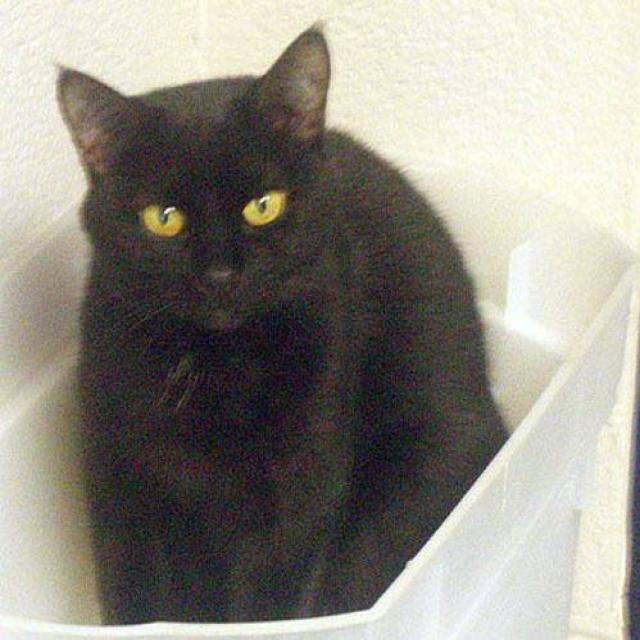cat: (52, 20, 512, 624)
